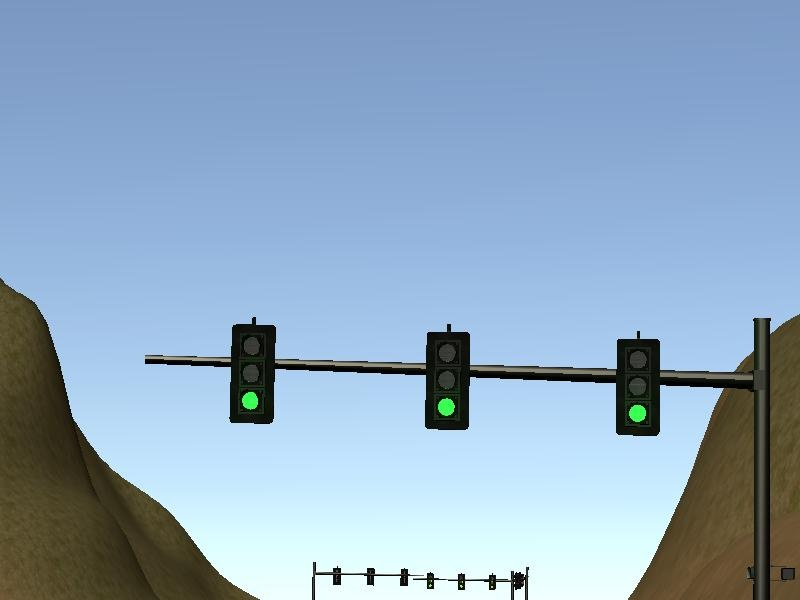green: (231, 320, 275, 423), (427, 332, 471, 432), (618, 341, 660, 440)
